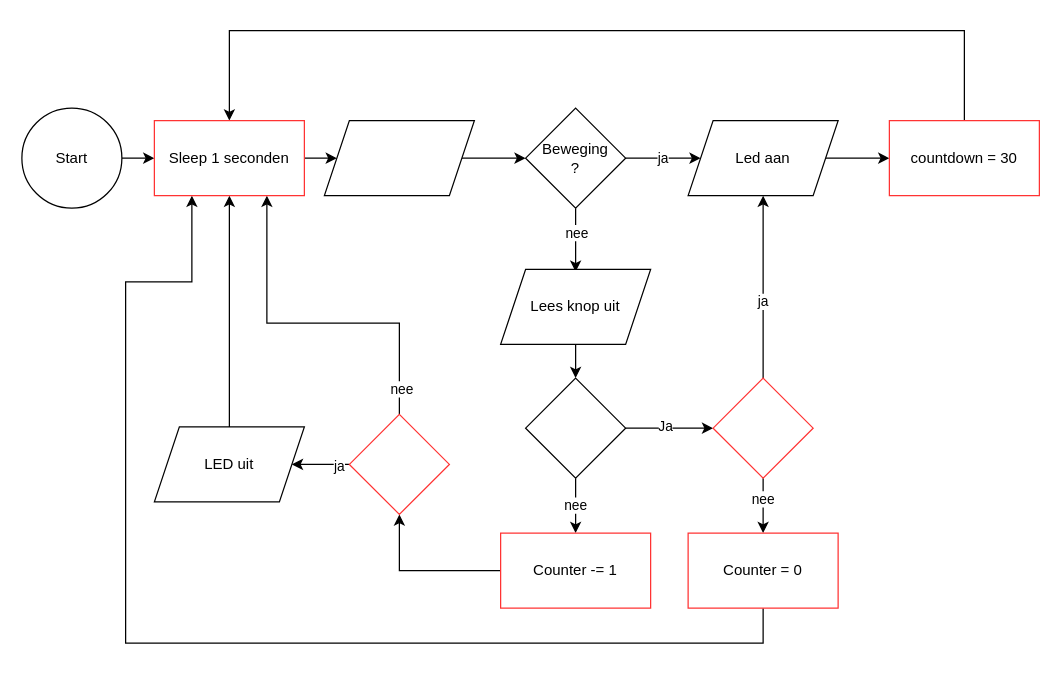
Some shapes in this 1061 by 675 pixel diagram are drawn without their labels. The shapes that lost their labels are listed below. From the top down, each one's centre as x and y in pixels, then its label:
At point 398,157: "Lees PIR uit".
At point 575,427: "Knop ingedrukt ?".
At point 762,427: "counter<= 0 ?".
At point 398,463: "Counter <= 0 ?".
